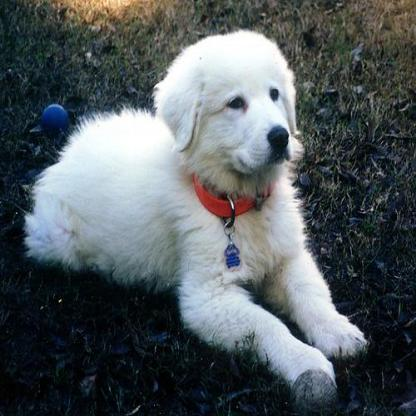Great_Pyrenees: (18, 25, 370, 409)
